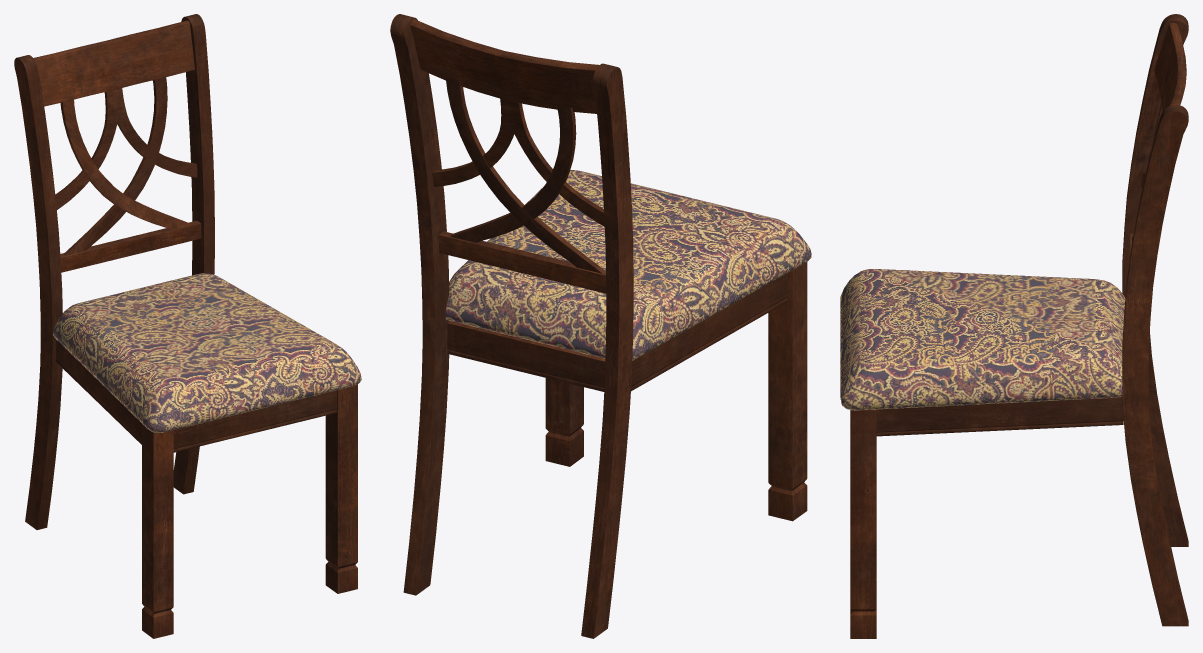
The model's file is B00EUL2B16.glb.
The picture shows the model from 3 angles, left to right: view 1: azimuth 30°, elevation 25°; view 2: azimuth 150°, elevation 25°; view 3: azimuth 270°, elevation 25°; orthographic projection. The views are drawn at different scales.
Parts seen in each view (by area): view 1: B00EUL2B16; view 2: B00EUL2B16; view 3: B00EUL2B16.
Part boxes in pixels (x1,y1,x2,y2): B00EUL2B16: (14,14,361,638); B00EUL2B16: (390,14,811,638); B00EUL2B16: (840,14,1188,638).
Size of the model in its own units: 0.4572 by 0.9652 by 0.5842.
Materials: 1 (1 with a texture image).
